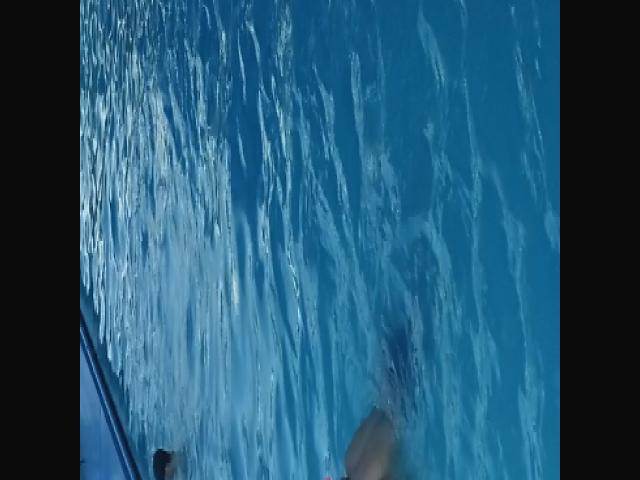swimming: (310, 322, 414, 480), (149, 433, 187, 480)
